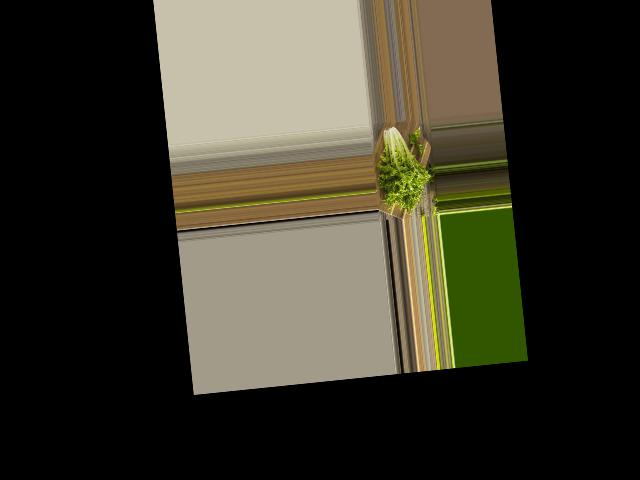lettuce: (372, 119, 432, 213)
